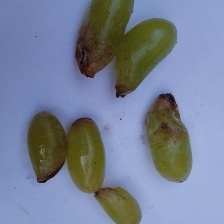grapes: (8, 18, 187, 215)
